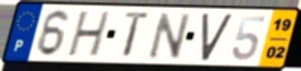5: (230, 14, 268, 62)
6: (35, 8, 71, 59)
H: (65, 10, 113, 59)
N: (147, 11, 193, 61)
T: (121, 10, 153, 60)
V: (199, 12, 235, 63)
